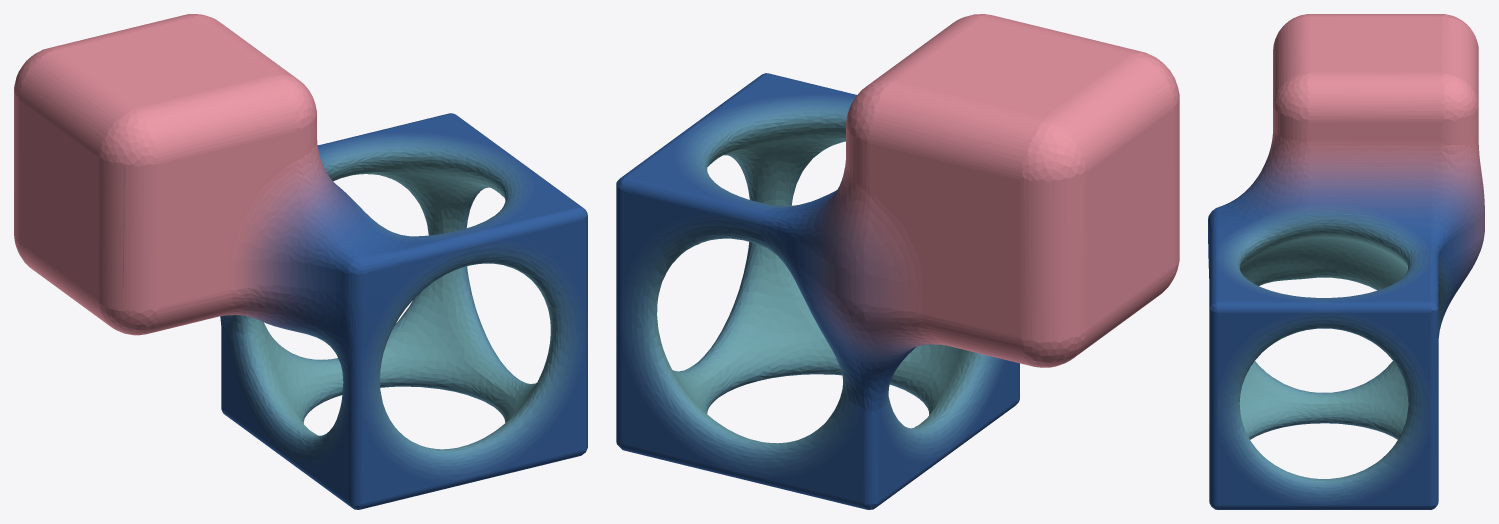
Rendered from target.glb.
3 views of the same model, side by side, from view 1: azimuth 30°, elevation 25°; view 2: azimuth 150°, elevation 25°; view 3: azimuth 270°, elevation 25° (orthographic). The views are drawn at different scales.
Parts seen in each view (by area): view 1: 4-361156_23_08_31_19_21_30_1; view 2: 4-361156_23_08_31_19_21_30_1; view 3: 4-361156_23_08_31_19_21_30_1.
Part boxes in pixels (<box>): 4-361156_23_08_31_19_21_30_1: <box>14,14,587,509</box>; 4-361156_23_08_31_19_21_30_1: <box>616,14,1179,509</box>; 4-361156_23_08_31_19_21_30_1: <box>1208,14,1484,509</box>.
Size of the model in its own units: 7.29 by 6.45 by 4.83.
1 material, 1 textured.
